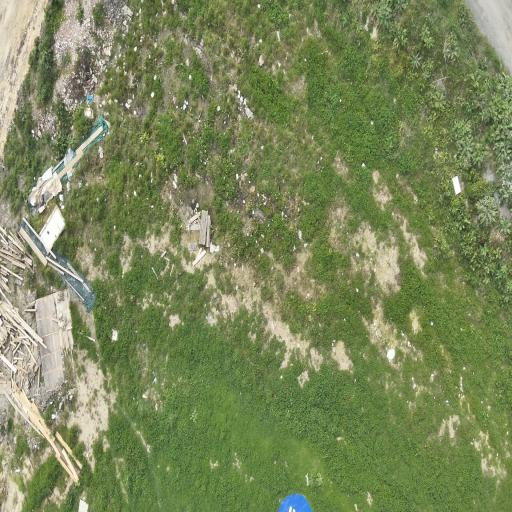UAP: (279, 494, 311, 511)
